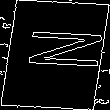N_E: (7, 33, 103, 77)
